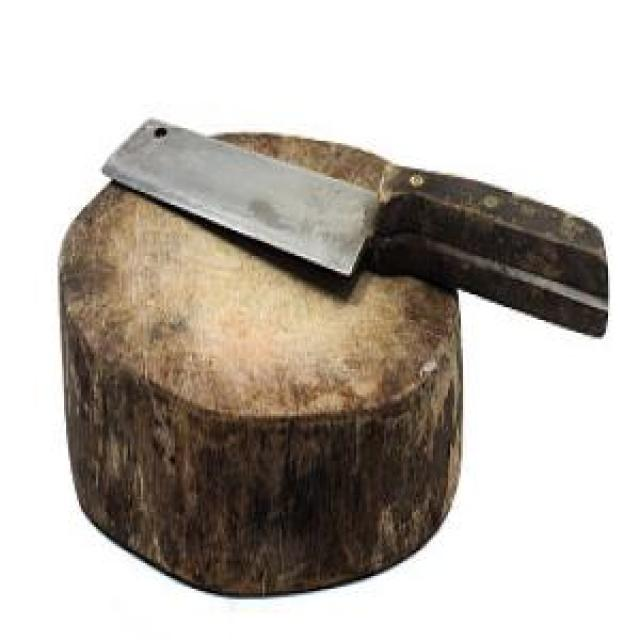knife: (100, 105, 610, 354)
